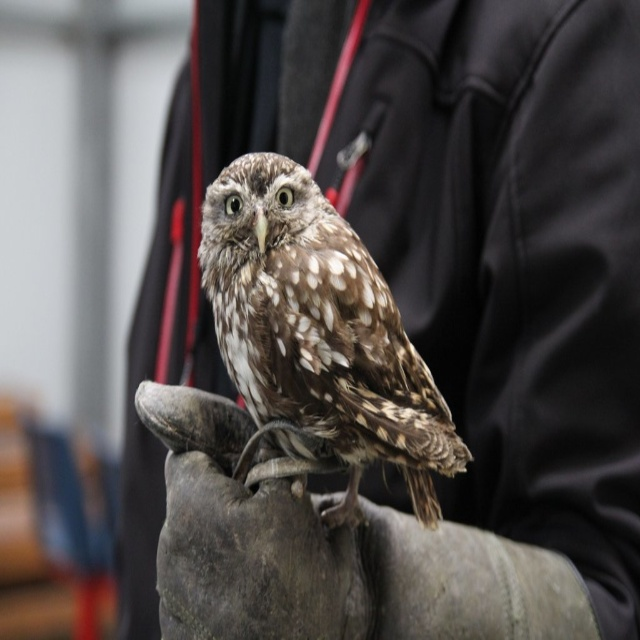Owl: (193, 144, 471, 553)
